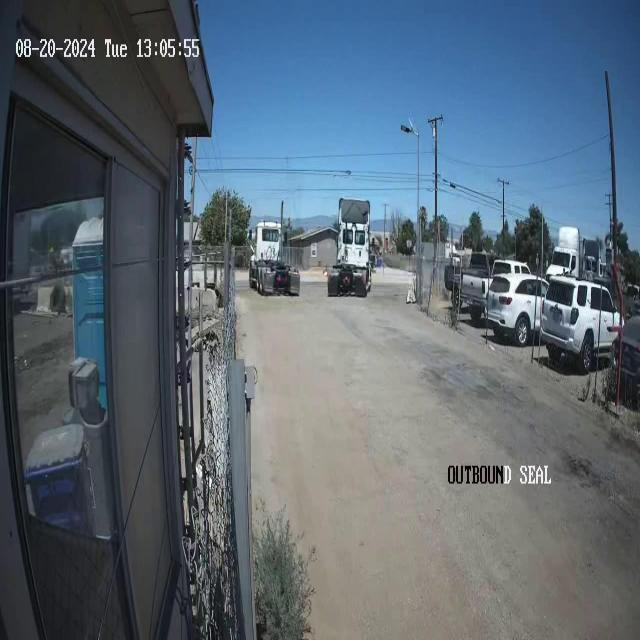TRUCK_OUT: (327, 196, 373, 297), (252, 219, 296, 306)
